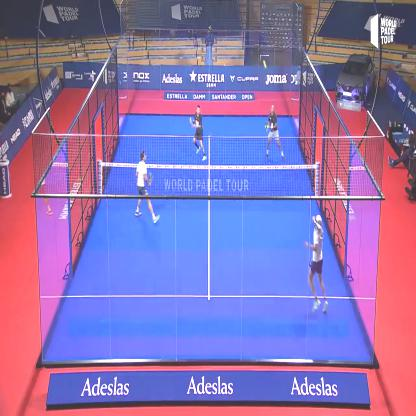ball: (260, 55, 270, 70)
